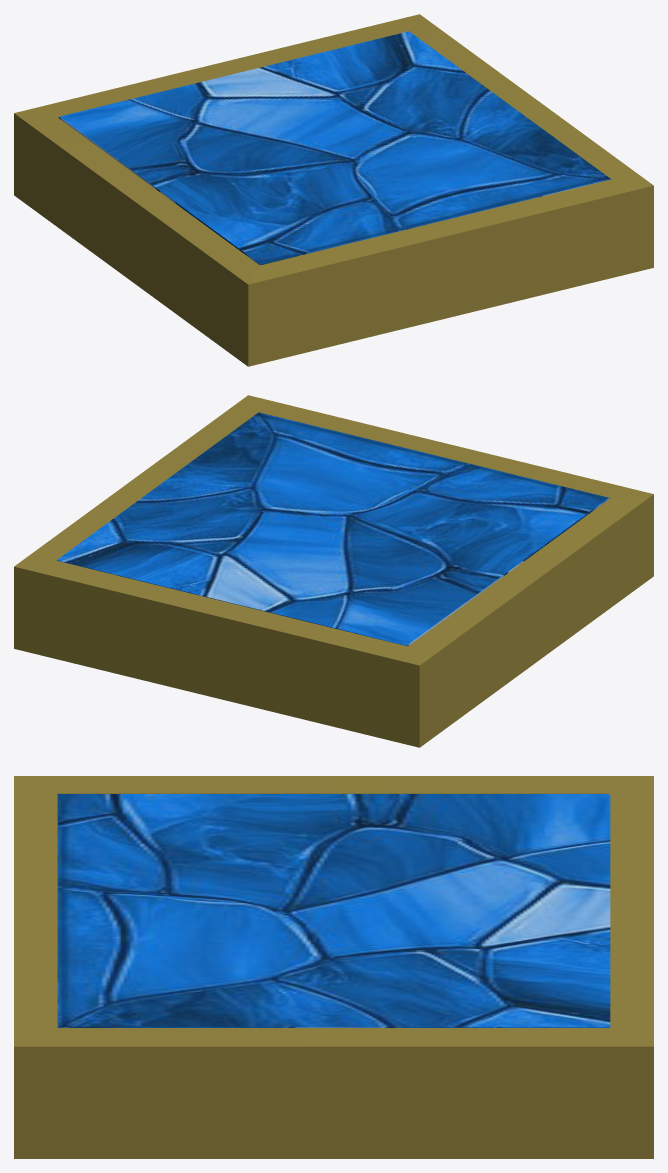
Rendered from squarePressedCompressed.glb.
3 renders of one model, top to bottom at view 1: azimuth 30°, elevation 25°; view 2: azimuth 150°, elevation 25°; view 3: azimuth 270°, elevation 25°, orthographic. The views are drawn at different scales.
Parts seen in each view (by area): view 1: Cube.003; view 2: Cube.003; view 3: Cube.003.
Boxes of the visible parts, left/top/right/bottom form: Cube.003: left=14, top=14, right=653, bottom=366; Cube.003: left=14, top=395, right=653, bottom=747; Cube.003: left=14, top=776, right=653, bottom=1158.
Bounding box in the file's own units: 1 × 0.201 × 1.
Materials: 2 (1 with a texture image).
